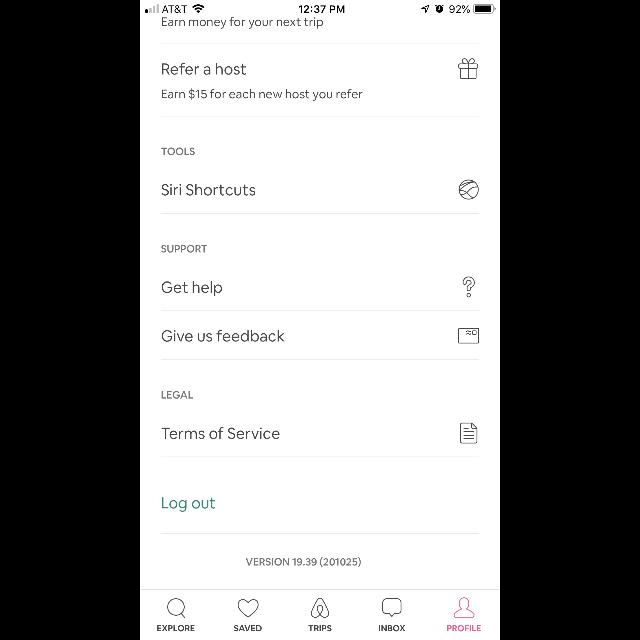icon: (458, 59, 478, 80), (382, 598, 402, 618), (454, 598, 474, 618), (460, 422, 478, 443), (168, 598, 186, 618), (238, 599, 258, 617), (458, 328, 479, 344), (463, 276, 475, 298)
image: (459, 180, 479, 200), (311, 598, 329, 618)
text: (162, 88, 362, 102), (162, 17, 322, 28), (162, 330, 284, 342), (162, 427, 280, 439), (246, 557, 360, 567), (162, 184, 256, 196), (162, 63, 246, 75), (162, 496, 215, 512), (162, 282, 222, 296), (161, 245, 207, 253), (158, 624, 195, 632), (447, 624, 481, 632), (162, 147, 194, 155), (162, 391, 194, 399), (379, 624, 405, 632), (234, 625, 262, 631), (308, 625, 332, 631)
uppertaskbar: (140, 0, 500, 14)
